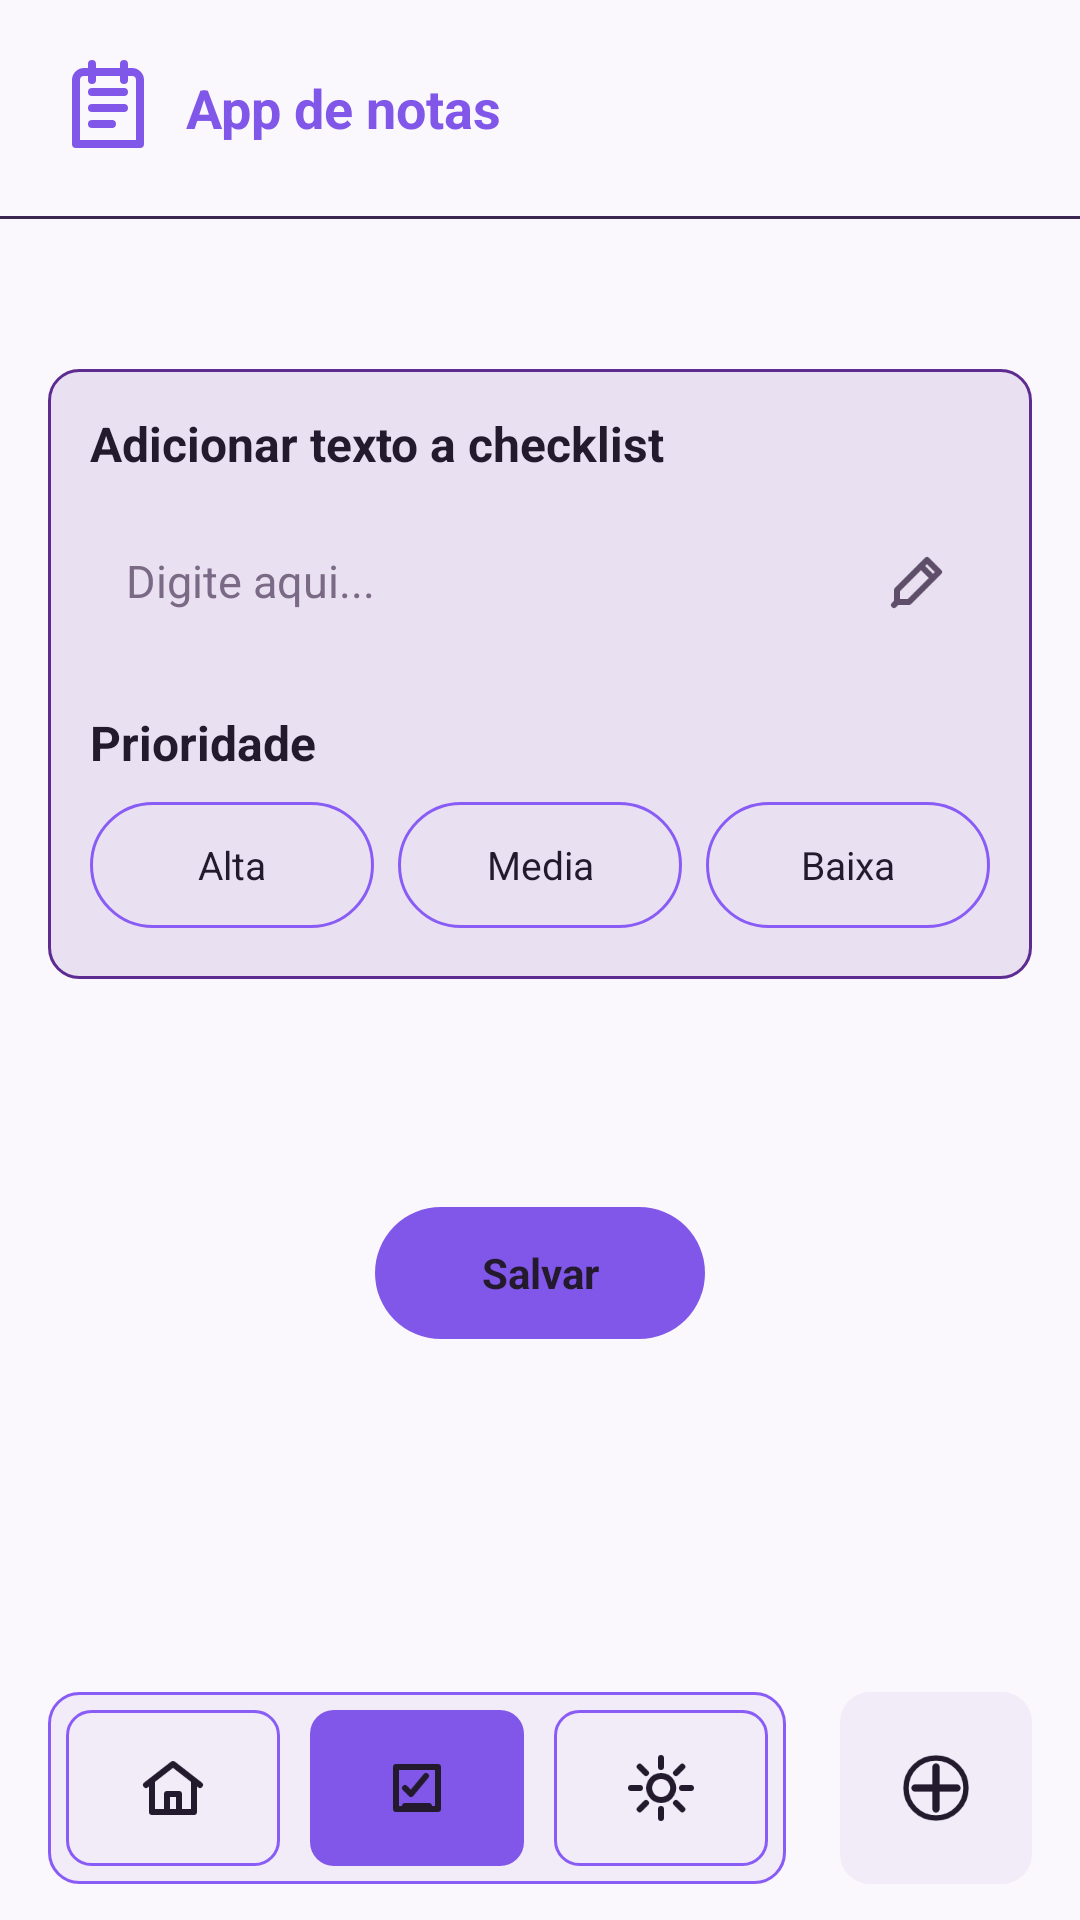

Locate icon controls on the screen. Image size 1080w x 1920h, boxes as (left=x1, top=y1, right=x2, bottom=y2).
Adicionar checklist: (left=840, top=1692, right=1032, bottom=1884)
Checklists: (left=310, top=1710, right=524, bottom=1866)
Configuracoes: (left=554, top=1710, right=768, bottom=1866)
Editar texto: (left=891, top=557, right=942, bottom=608)
note: (left=72, top=60, right=144, bottom=148)
Tela inicial: (left=66, top=1710, right=280, bottom=1866)
